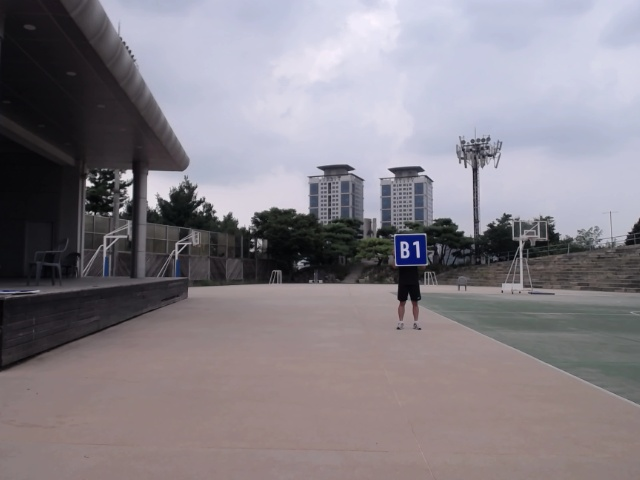delivery_b1: (394, 234, 428, 266)
